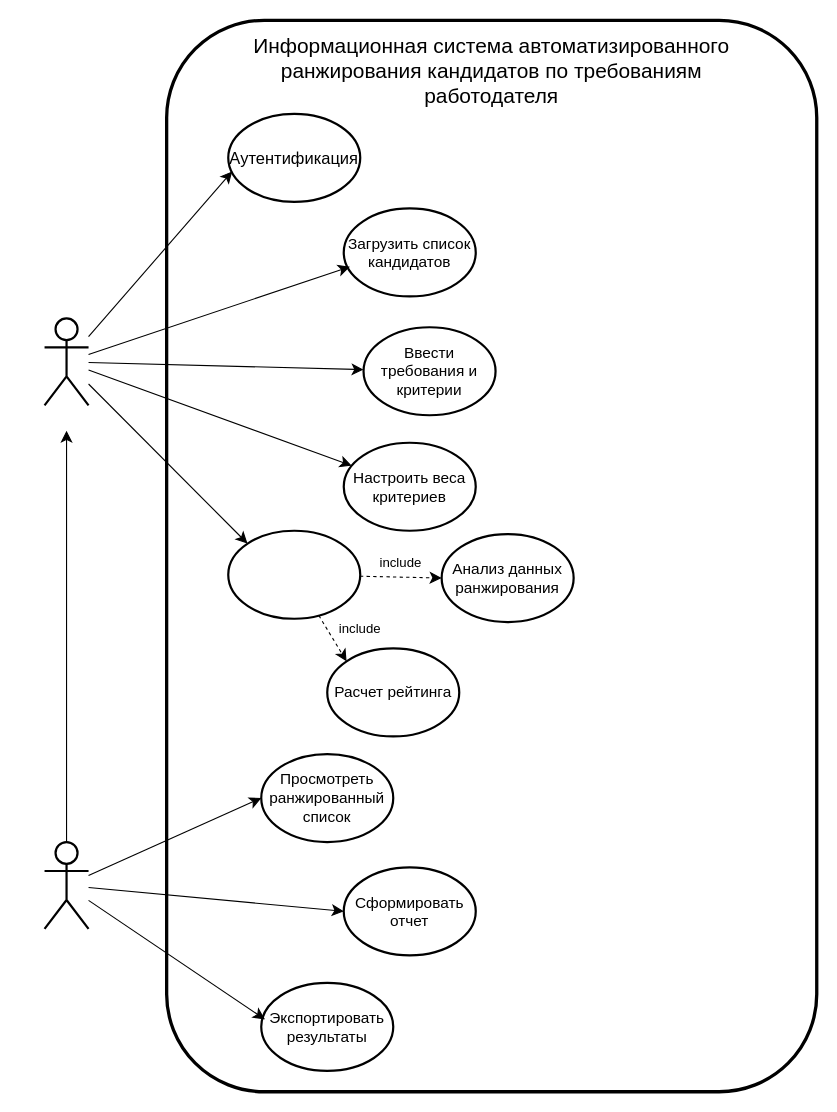
This 837x1112 diagram has some shape labels left out. Each missing label, with the centre of its shape:
"HR-специалист" goes at point 66,361.
"Директор" goes at point 66,885.
"Запустить ранжирование" goes at point 294,574.
